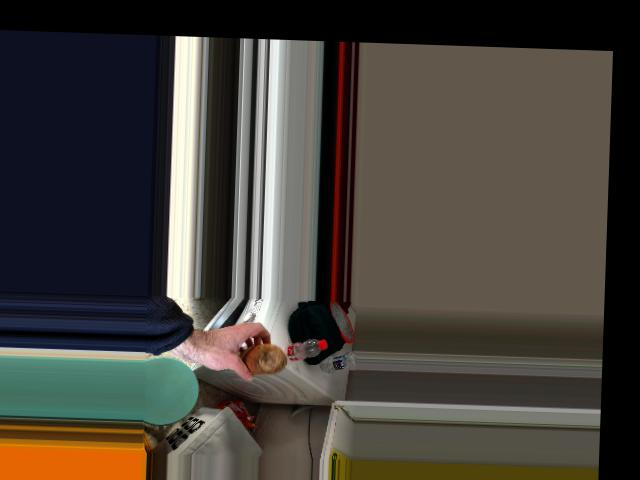sweet_potato: (233, 335, 286, 379)
